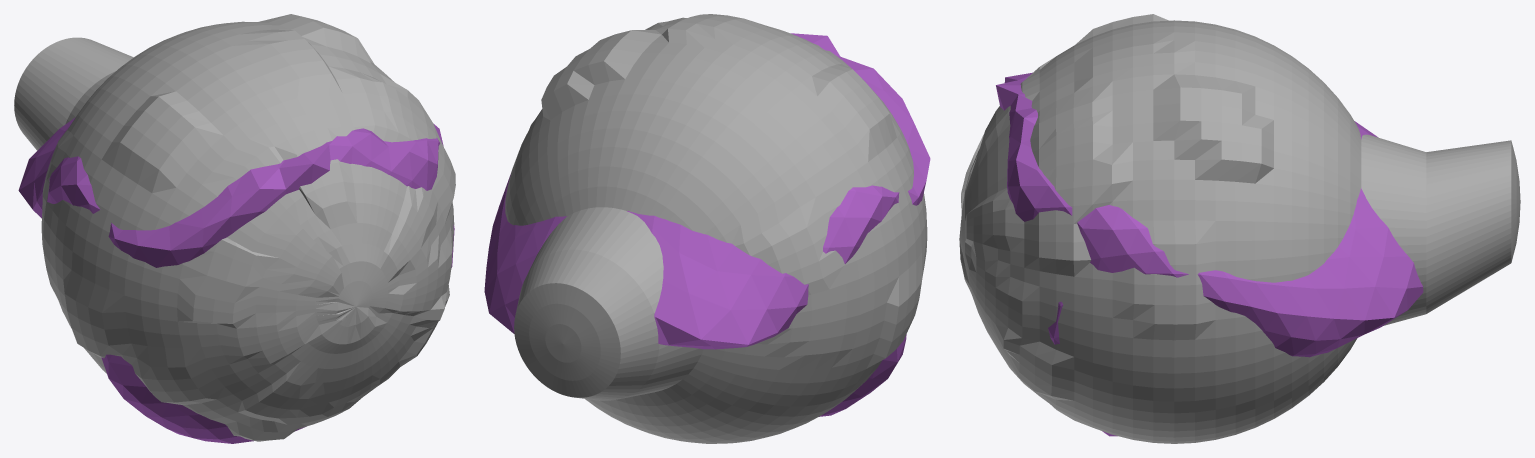
Rendered from G11_A3_ALIGNED_GT.glb.
The picture shows the model from 3 angles, left to right: view 1: azimuth 30°, elevation 25°; view 2: azimuth 150°, elevation 25°; view 3: azimuth 270°, elevation 25°; orthographic projection. The views are drawn at different scales.
Visible parts, largest first — view 1: Independent_GT, A3; view 2: Independent_GT, A3; view 3: Independent_GT, A3.
Boxes of the visible parts, x1,y1,x2,y2 form: Independent_GT: (14, 14, 455, 441); A3: (18, 117, 454, 443); Independent_GT: (505, 14, 927, 443); A3: (484, 33, 930, 416); Independent_GT: (959, 14, 1520, 443); A3: (996, 72, 1423, 436).
Bounding box in the file's own units: 0.00572 × 0.00564 × 0.00741.
